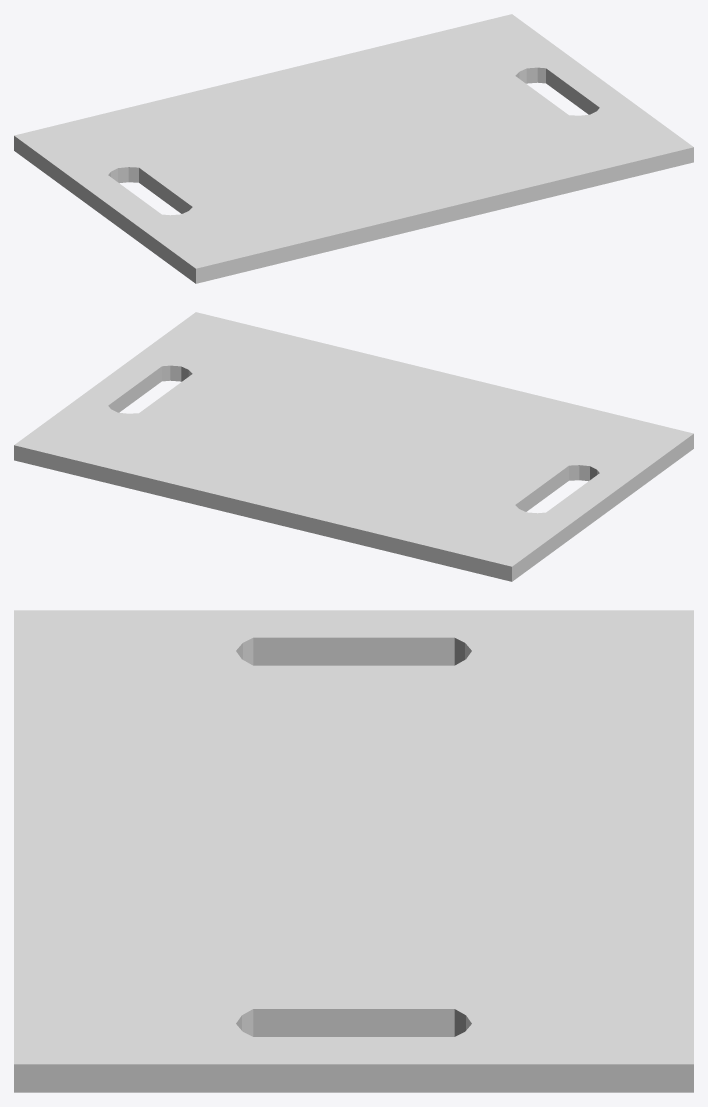
The model's file is CuttingBoard.glb.
3 views of the same model, one above another, from view 1: azimuth 30°, elevation 25°; view 2: azimuth 150°, elevation 25°; view 3: azimuth 270°, elevation 25° (orthographic). The views are drawn at different scales.
Visible parts, largest first — view 1: Environment_CuttingTable; view 2: Environment_CuttingTable; view 3: Environment_CuttingTable.
Part boxes in pixels (left/top/right/bottom): Environment_CuttingTable: left=14, top=14, right=693, bottom=283; Environment_CuttingTable: left=14, top=312, right=693, bottom=581; Environment_CuttingTable: left=14, top=610, right=693, bottom=1092.
Size of the model in its own units: 1.72 by 0.0502 by 1.09.
1 material, 1 textured.
